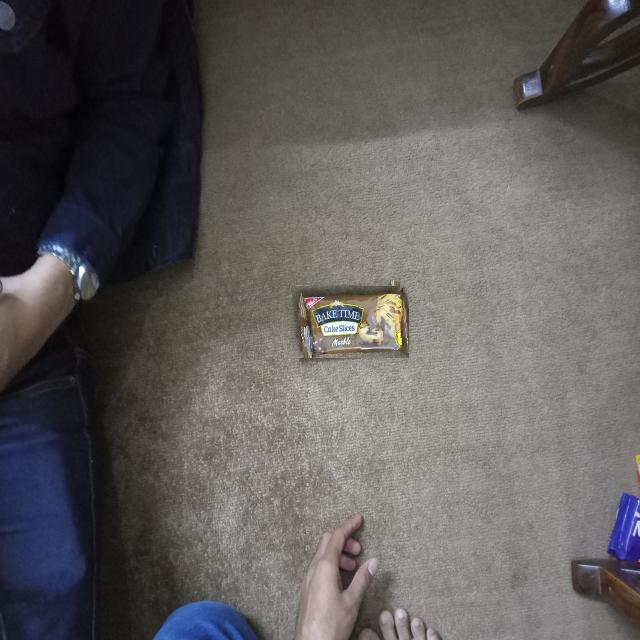Plastic: (289, 284, 409, 358)
